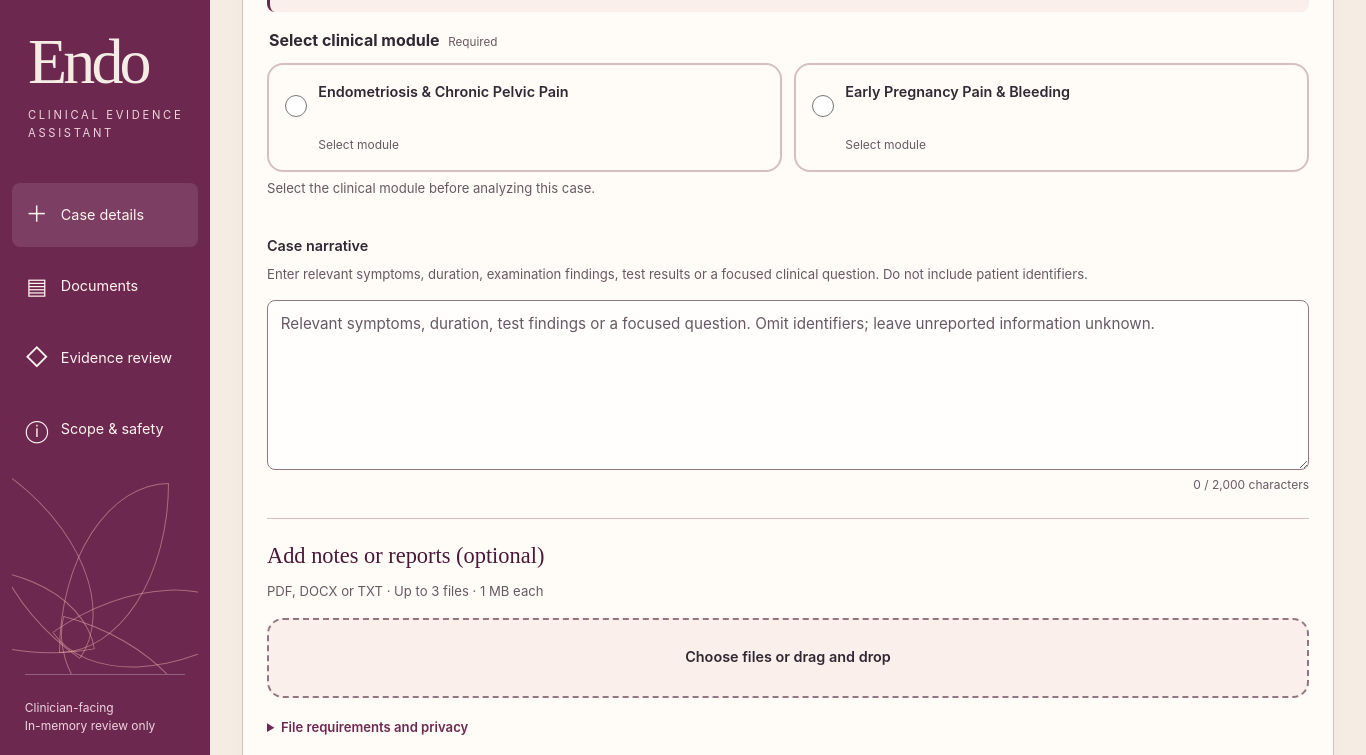
Scenario: uses state-aware guidance without claiming an empty case is ready
(page scrolled)
Expected: the radio button labelled "Endometriosis & Chronic Pelvic Pain" is shown, [285,83,307,129]
Step 1. Type "Use early pregnancy module." into the text box labelled "Case narrative" → (788, 385), box [267,300,1309,470]
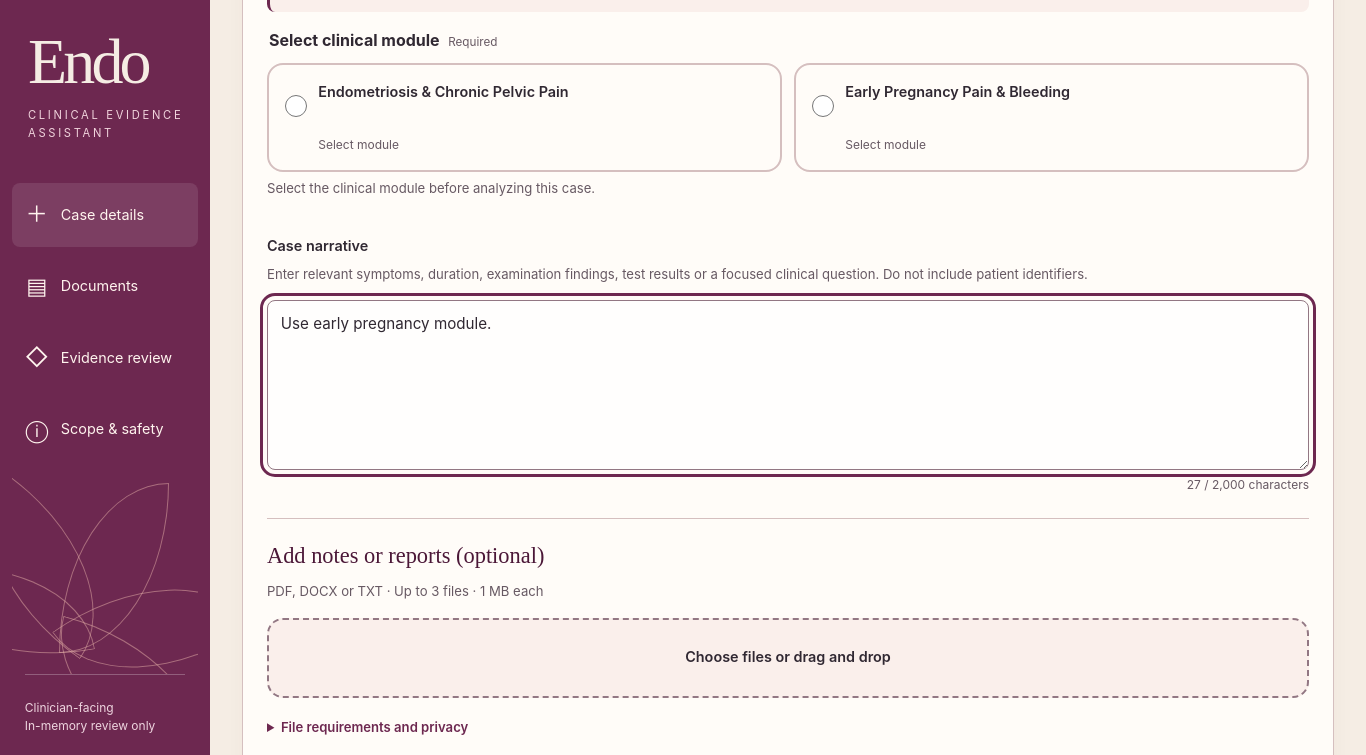
Step 2. Clear the text box labelled "Case narrative" → (788, 385), box [267,300,1309,470]
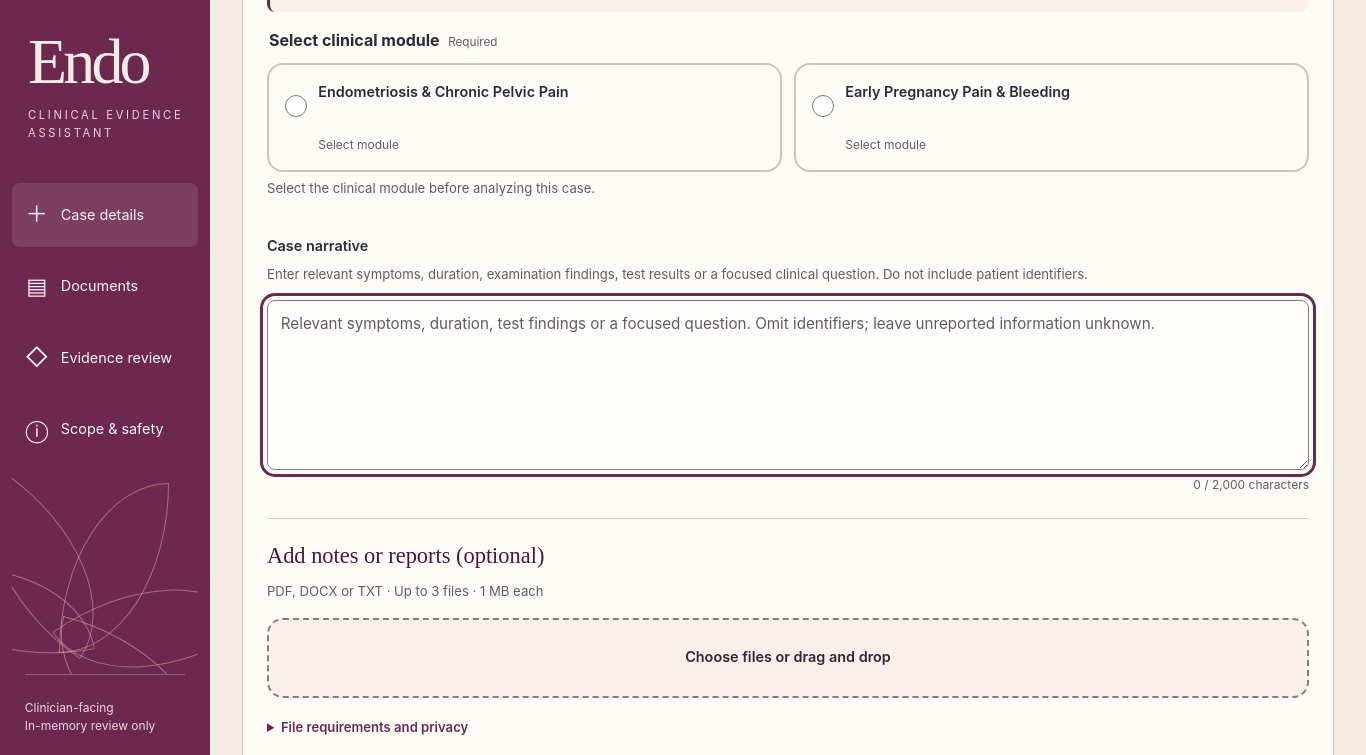
Step 3. Click the radio button labelled "Endometriosis & Chronic Pelvic Pain" → click(296, 106), box [285,83,307,129]
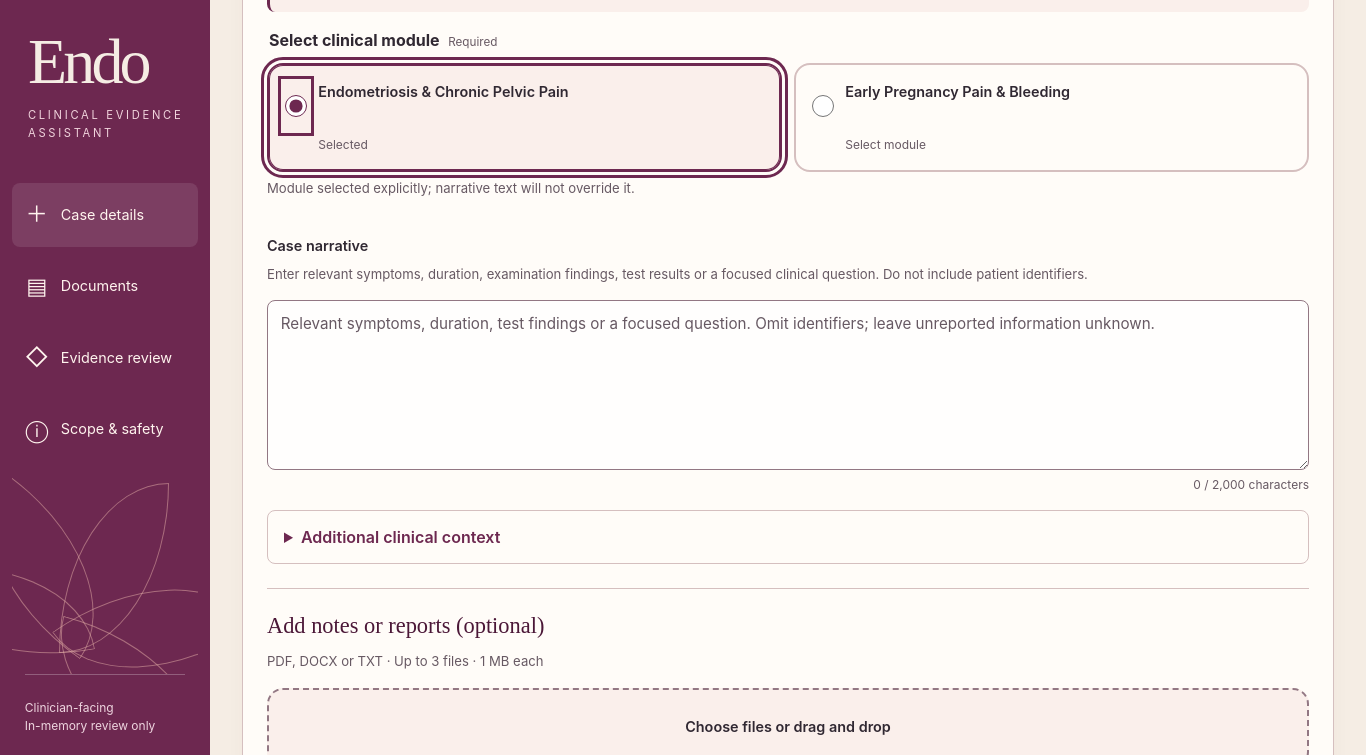
Step 4. Type "Synthetic context for review." into the text box labelled "Case narrative" → (788, 385), box [267,300,1309,470]
(page scrolled)
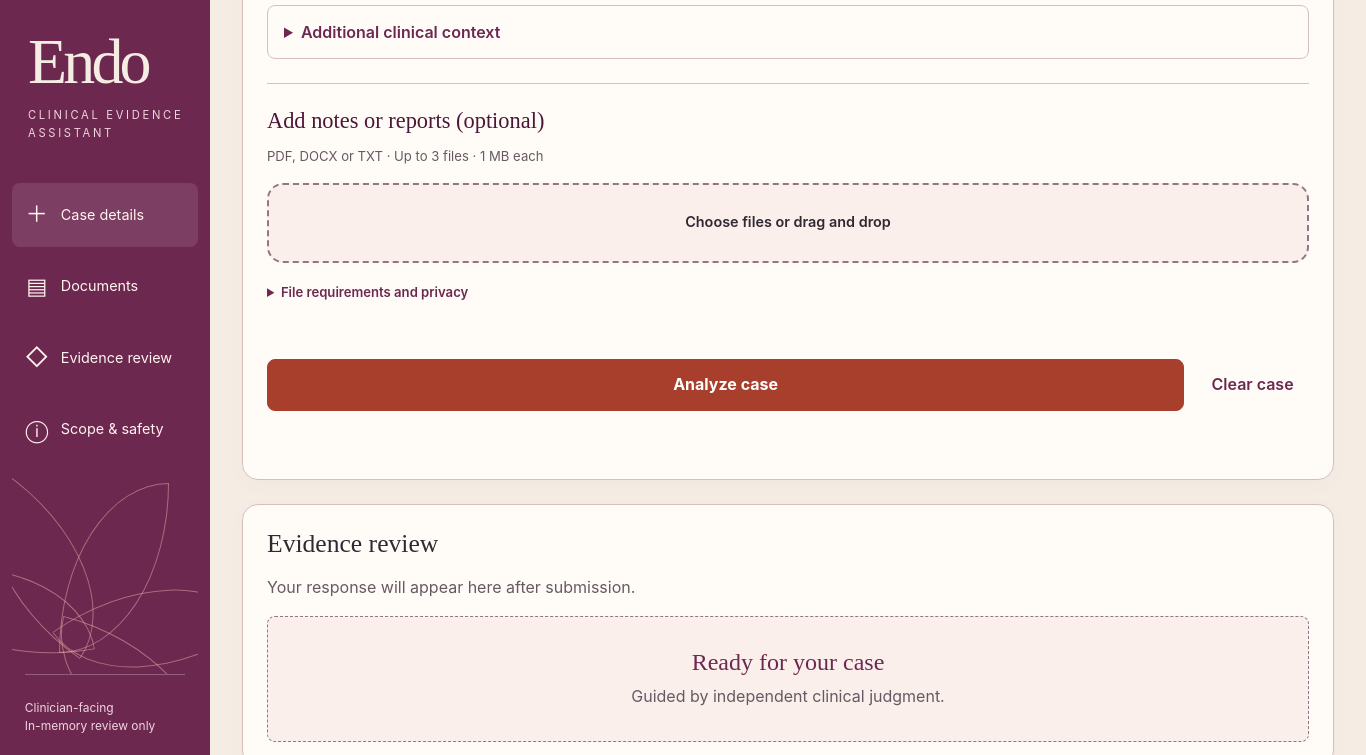
Step 5. Click the button "Clear case" → click(1253, 385), box [1196,359,1309,411]
(page scrolled)
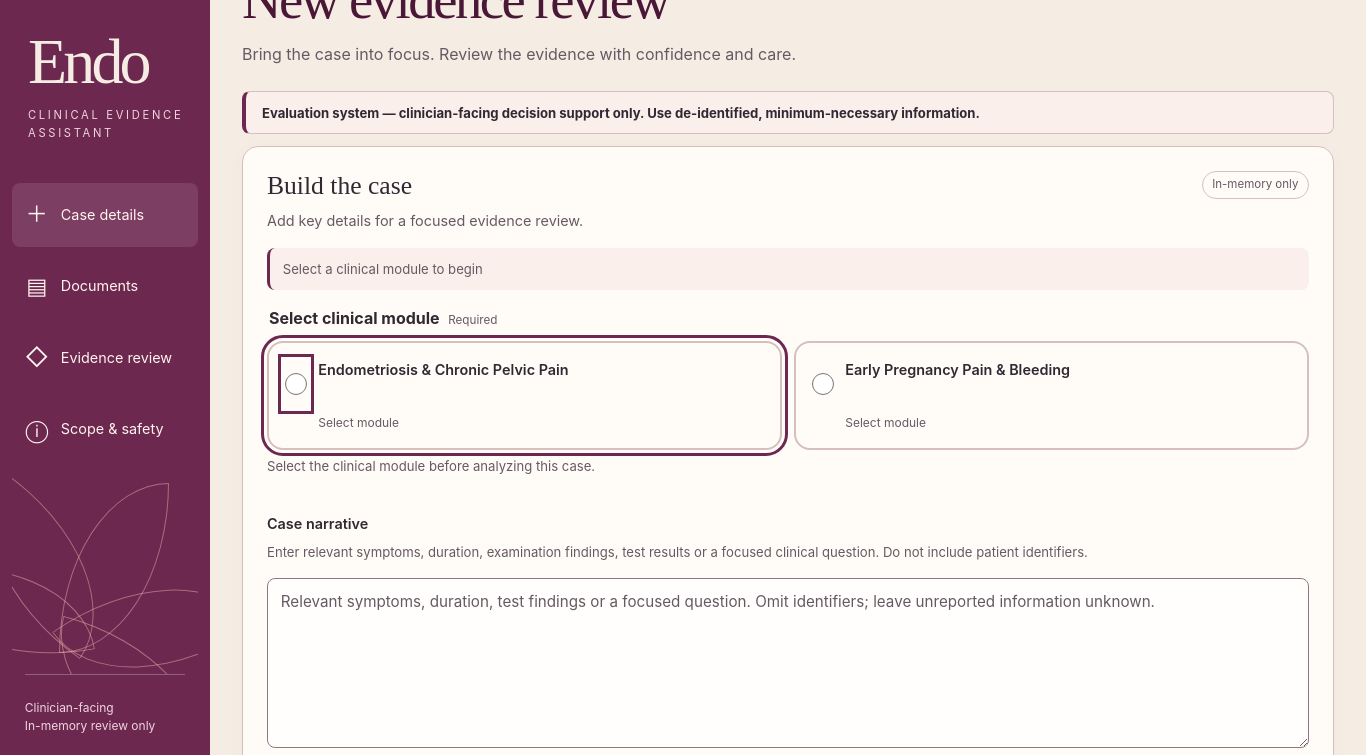
Expected: the text "Select a clinical module to begin" is shown, [267,248,1309,290]
